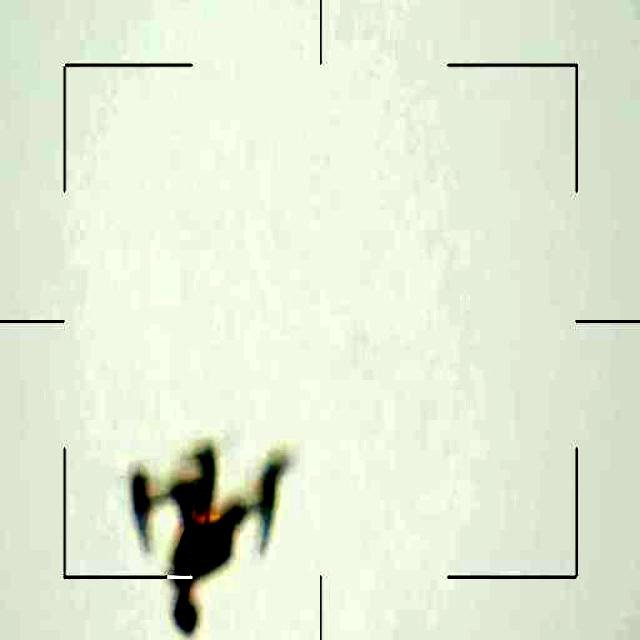bird: (122, 434, 296, 639)
